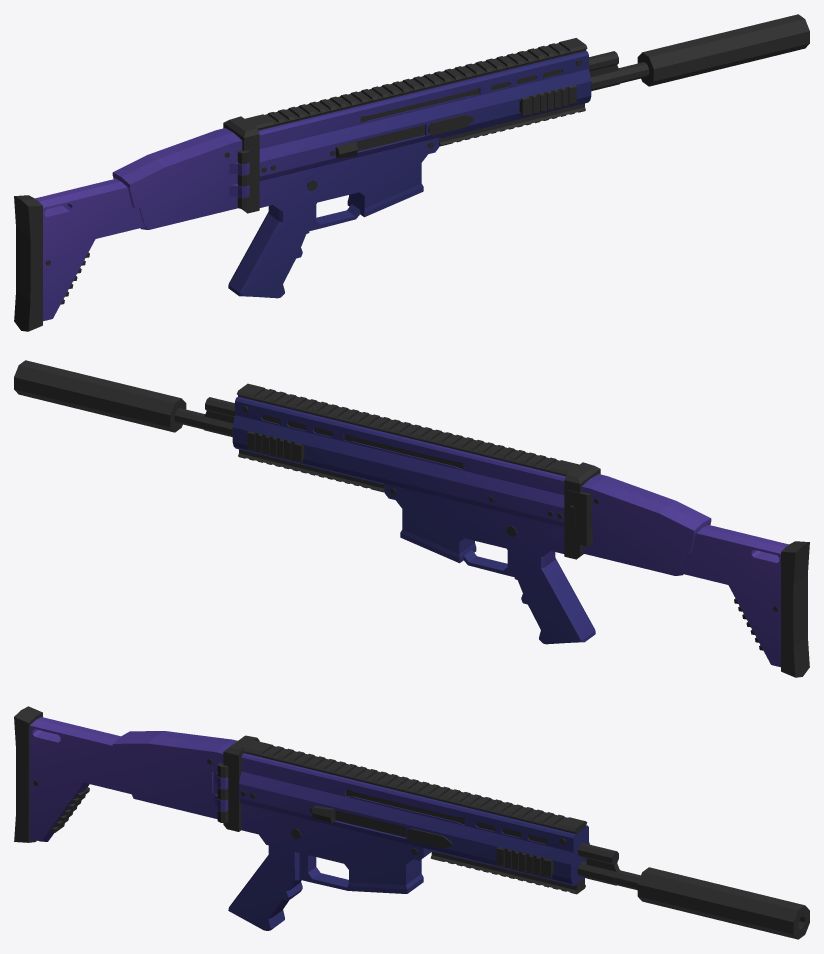
The model's file is AssaultRifle6_06.fbx.
3 views of the same model, one above another, from view 1: azimuth 30°, elevation 25°; view 2: azimuth 150°, elevation 25°; view 3: azimuth 330°, elevation 25° (orthographic).
Visible parts, largest first — view 1: AssaultRifle6_06; view 2: AssaultRifle6_06; view 3: AssaultRifle6_06.
Part boxes in pixels (<box>): AssaultRifle6_06: <box>14,14,809,331</box>; AssaultRifle6_06: <box>14,360,809,677</box>; AssaultRifle6_06: <box>14,706,809,939</box>.
Size of the model in its own units: 1.07 by 0.2319 by 0.0635.
